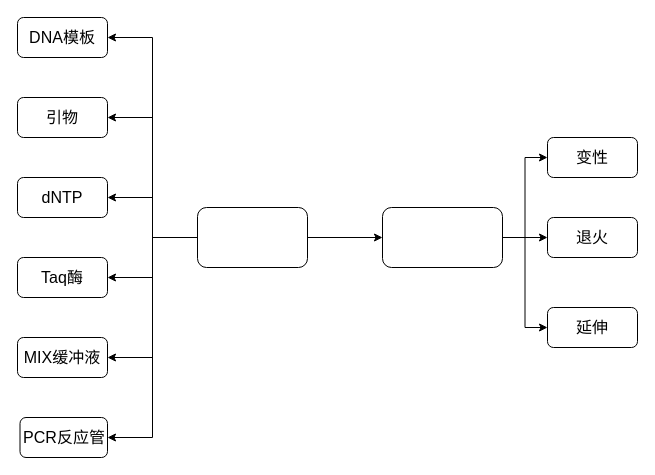
This 655x475 diagram has some shape labels left out. The shapes that lost their labels are listed below. From the top down, each one's box as (x1, y1, x2, y2) in pixels, then its label:
(196, 206, 308, 268): PCR反应体系
(382, 206, 502, 268): PCR扩增
